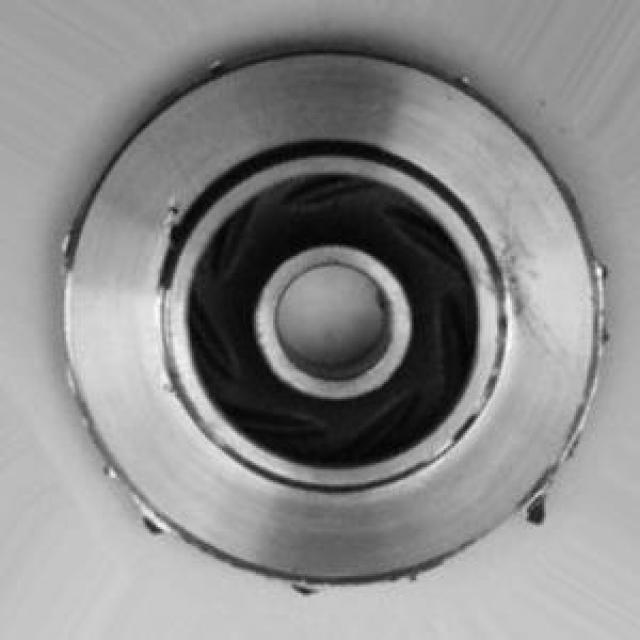Defect: (503, 473, 578, 539)
